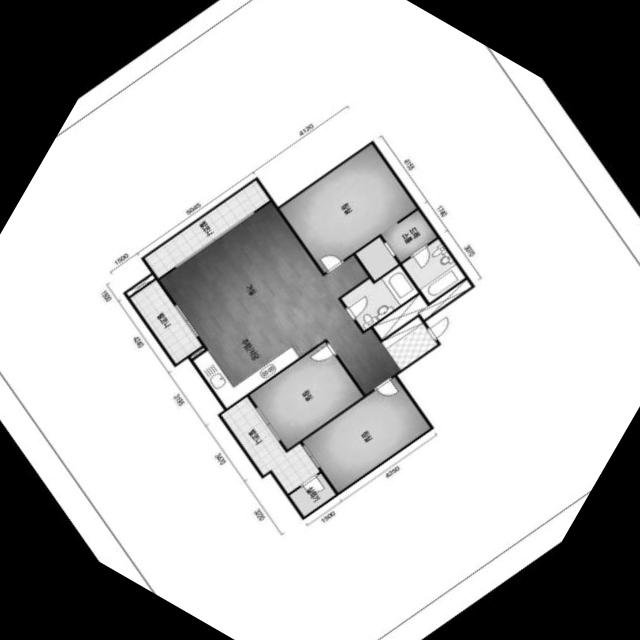background: (0, 0, 640, 640)
space_balconi: (144, 180, 269, 278), (220, 397, 319, 494), (130, 280, 202, 364)
space_bedroom: (279, 144, 416, 273), (302, 377, 430, 493), (249, 342, 363, 450)
space_dressroom: (382, 210, 436, 262)
space_front: (380, 317, 437, 371)
space_kitchen: (193, 310, 299, 409)
space_living_room: (159, 202, 400, 395)
space_other: (373, 280, 471, 340), (355, 237, 398, 281), (126, 275, 154, 297), (190, 348, 204, 359)
space_outdoor_room: (289, 474, 335, 517)
space_toilet: (341, 266, 418, 331), (402, 239, 465, 303)
